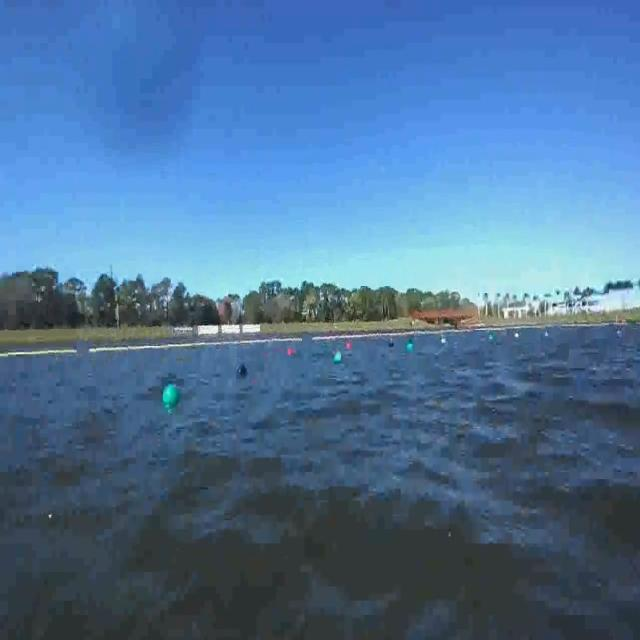black-buoy: (239, 362, 248, 377)
green-buoy: (162, 383, 179, 405), (335, 352, 344, 364)
